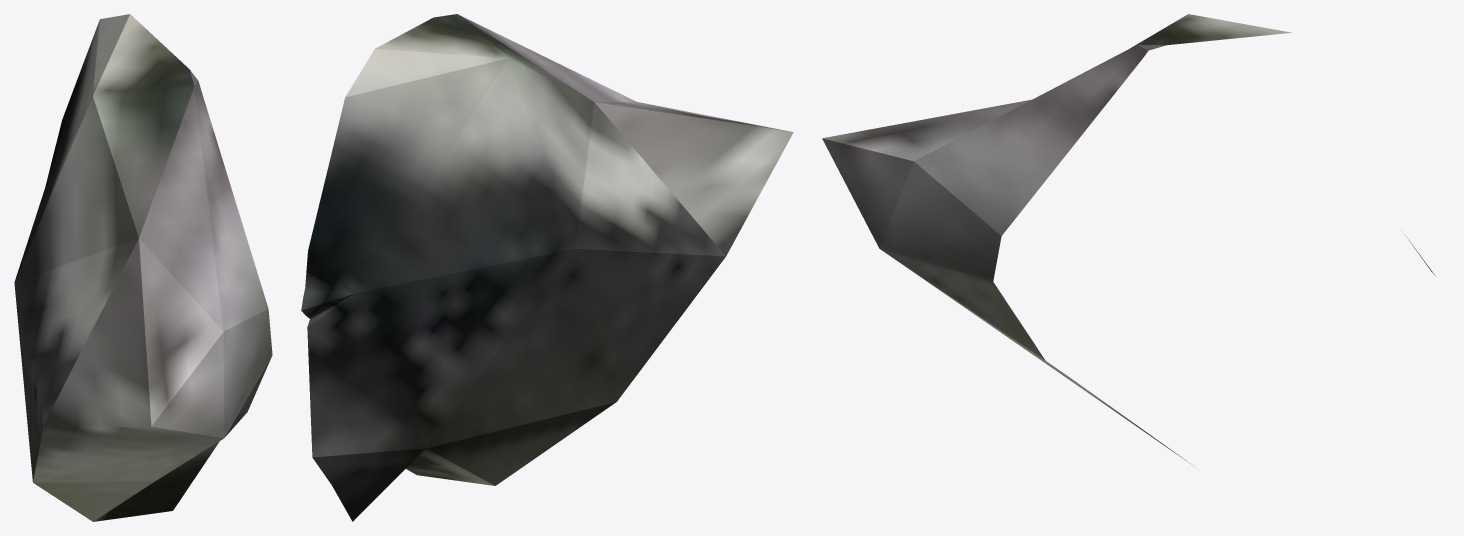
The picture shows the model from 3 angles, left to right: view 1: azimuth 30°, elevation 25°; view 2: azimuth 150°, elevation 25°; view 3: azimuth 270°, elevation 25°; orthographic projection. The views are drawn at different scales.
Bounding box in the file's own units: 0.0436 × 0.0873 × 0.1016.
1 material, 1 textured.
